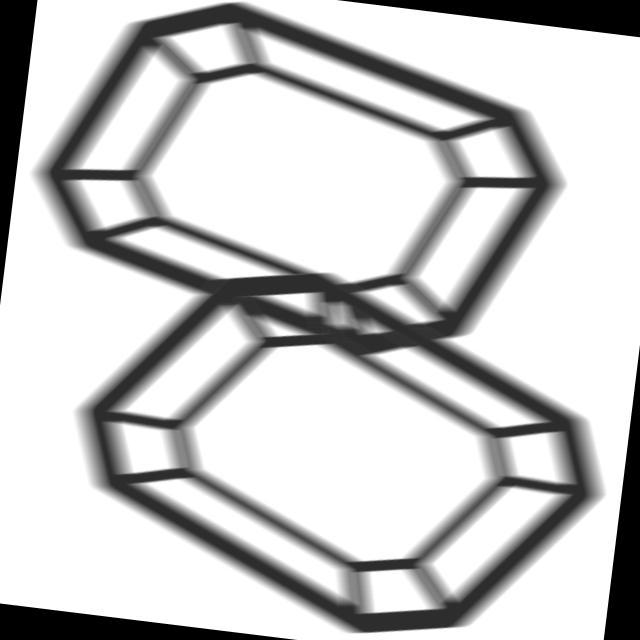emerald: (37, 241, 633, 640), (5, 1, 595, 391)
